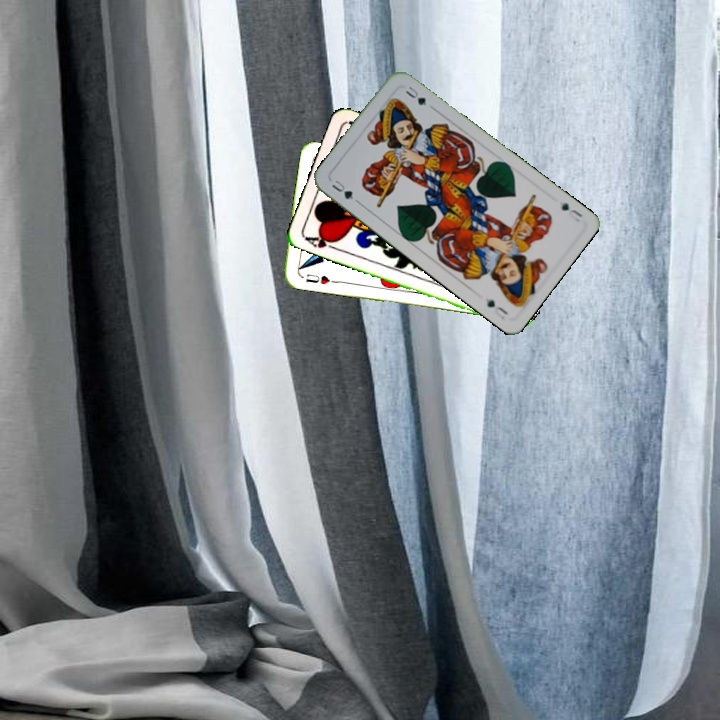GU: (557, 198, 587, 224), (327, 176, 356, 202)
HA: (301, 230, 340, 253)
HU: (302, 270, 332, 287)
